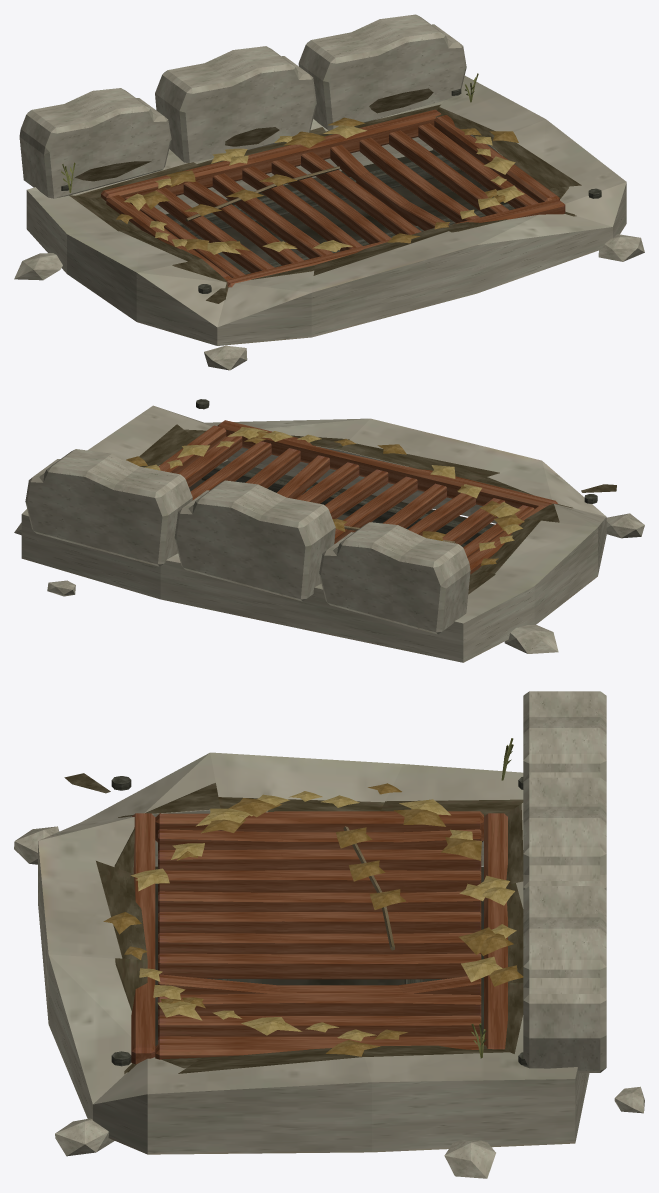
Rendered from nb_storm_drain.glb.
The picture shows the model from 3 angles, top to bottom: view 1: azimuth 30°, elevation 25°; view 2: azimuth 150°, elevation 25°; view 3: azimuth 270°, elevation 25°; orthographic projection. The views are drawn at different scales.
Visible parts, largest first — view 1: Storm_Drain_Clogged_Body; view 2: Storm_Drain_Clogged_Body; view 3: Storm_Drain_Clogged_Body.
Part boxes in pixels (x1=…): Storm_Drain_Clogged_Body: x1=14, y1=14, x2=644, y2=370; Storm_Drain_Clogged_Body: x1=14, y1=399, x2=644, y2=662; Storm_Drain_Clogged_Body: x1=14, y1=691, x2=644, y2=1178.
Bounding box in the file's own units: 1.71 × 0.3985 × 1.21.
Materials: 1 (1 with a texture image).
